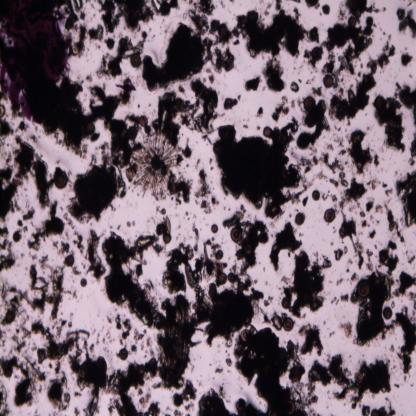Background material: (212, 118, 308, 220), (100, 232, 164, 330), (141, 16, 223, 88), (329, 42, 396, 118), (235, 329, 290, 415), (44, 79, 102, 156), (308, 355, 392, 408), (228, 7, 308, 59), (152, 81, 222, 140), (196, 282, 260, 346), (155, 295, 197, 390), (68, 161, 129, 222), (69, 327, 107, 415), (0, 269, 65, 317), (106, 358, 161, 414), (353, 270, 393, 346), (324, 21, 372, 79), (162, 241, 216, 292), (0, 139, 32, 224), (285, 254, 325, 318), (85, 78, 136, 124), (97, 33, 146, 79), (36, 329, 85, 369), (27, 201, 64, 252), (374, 96, 406, 154), (235, 219, 268, 274), (66, 9, 103, 56), (296, 101, 330, 151), (269, 222, 302, 273), (13, 356, 46, 405), (392, 308, 416, 375), (100, 0, 154, 29), (339, 212, 365, 269), (85, 229, 108, 282), (31, 153, 54, 206), (396, 168, 416, 228), (347, 129, 373, 174), (194, 168, 219, 214), (0, 322, 33, 354), (286, 339, 308, 383), (298, 323, 326, 357), (198, 387, 233, 414), (395, 81, 416, 126), (296, 153, 343, 172), (384, 204, 406, 244), (264, 56, 288, 92), (188, 1, 214, 34), (338, 177, 368, 205), (48, 374, 70, 412), (202, 38, 224, 76), (344, 0, 387, 18), (292, 384, 317, 414), (166, 174, 192, 202), (392, 270, 416, 298), (18, 204, 40, 234), (396, 7, 416, 39), (272, 97, 294, 121), (0, 239, 15, 272), (382, 255, 399, 280), (115, 314, 131, 339), (33, 253, 57, 269), (0, 381, 11, 415), (243, 73, 262, 92), (134, 332, 154, 350), (224, 208, 242, 226), (182, 381, 196, 404), (338, 320, 354, 340), (407, 131, 416, 166), (370, 404, 398, 415), (180, 140, 194, 162), (0, 119, 16, 138), (73, 230, 85, 254), (56, 318, 76, 332), (305, 53, 318, 74), (363, 250, 375, 272), (191, 225, 200, 254), (163, 407, 191, 416), (258, 307, 272, 325), (223, 96, 238, 112), (271, 313, 282, 331), (262, 293, 275, 308), (400, 52, 414, 65), (380, 27, 394, 40), (382, 182, 394, 197), (309, 85, 323, 97), (305, 1, 320, 12), (151, 205, 166, 216), (218, 23, 229, 38), (310, 173, 328, 182), (326, 192, 341, 202), (369, 178, 381, 190), (322, 256, 332, 270), (334, 274, 345, 286), (334, 249, 344, 262), (224, 58, 234, 71), (365, 200, 374, 214), (102, 314, 113, 325), (67, 289, 78, 300), (18, 120, 28, 132), (290, 81, 300, 92), (72, 266, 83, 276), (375, 204, 385, 215), (361, 404, 371, 415), (369, 225, 376, 240), (339, 294, 350, 303), (365, 15, 374, 26), (224, 356, 233, 367), (194, 156, 200, 172), (407, 254, 416, 264), (126, 218, 135, 228), (258, 105, 264, 120), (373, 153, 379, 167), (331, 178, 339, 188), (214, 368, 224, 376), (331, 297, 339, 306), (240, 122, 249, 130), (256, 125, 261, 131), (394, 383, 399, 388)
Diatom: (54, 170, 68, 191), (356, 279, 371, 297), (323, 208, 336, 226), (304, 96, 316, 113), (282, 316, 294, 333), (230, 228, 243, 242), (374, 96, 386, 111), (4, 309, 16, 324), (127, 127, 139, 141), (159, 2, 171, 16), (312, 45, 322, 61), (323, 74, 334, 88), (248, 10, 259, 24), (308, 27, 319, 41), (118, 347, 129, 361), (138, 114, 149, 128), (165, 214, 173, 233), (295, 212, 305, 227), (240, 330, 252, 342), (130, 55, 142, 67), (218, 272, 228, 286), (126, 167, 136, 181), (285, 402, 296, 414), (378, 249, 389, 261), (382, 307, 392, 320), (354, 372, 364, 385), (281, 296, 291, 309), (3, 365, 13, 378), (321, 3, 330, 17), (65, 255, 75, 267), (86, 123, 96, 134), (162, 233, 172, 244), (312, 188, 321, 200), (174, 394, 183, 406), (156, 223, 165, 234), (263, 127, 272, 138), (147, 82, 158, 91), (348, 15, 356, 27), (107, 38, 115, 50), (80, 276, 88, 288), (228, 272, 235, 285), (12, 232, 21, 242), (215, 249, 224, 258), (212, 223, 218, 235)
Pen: (0, 1, 71, 126)
